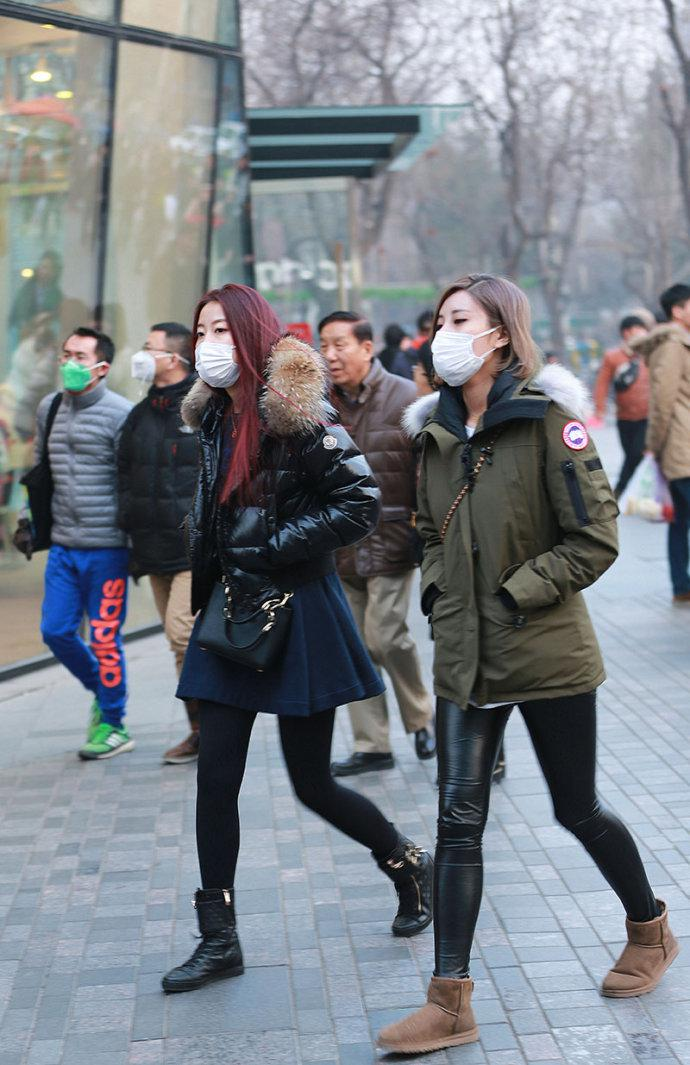NONE: (322, 331, 365, 384)
OK: (431, 304, 506, 387), (196, 314, 266, 384), (135, 337, 179, 387), (63, 347, 103, 397)
